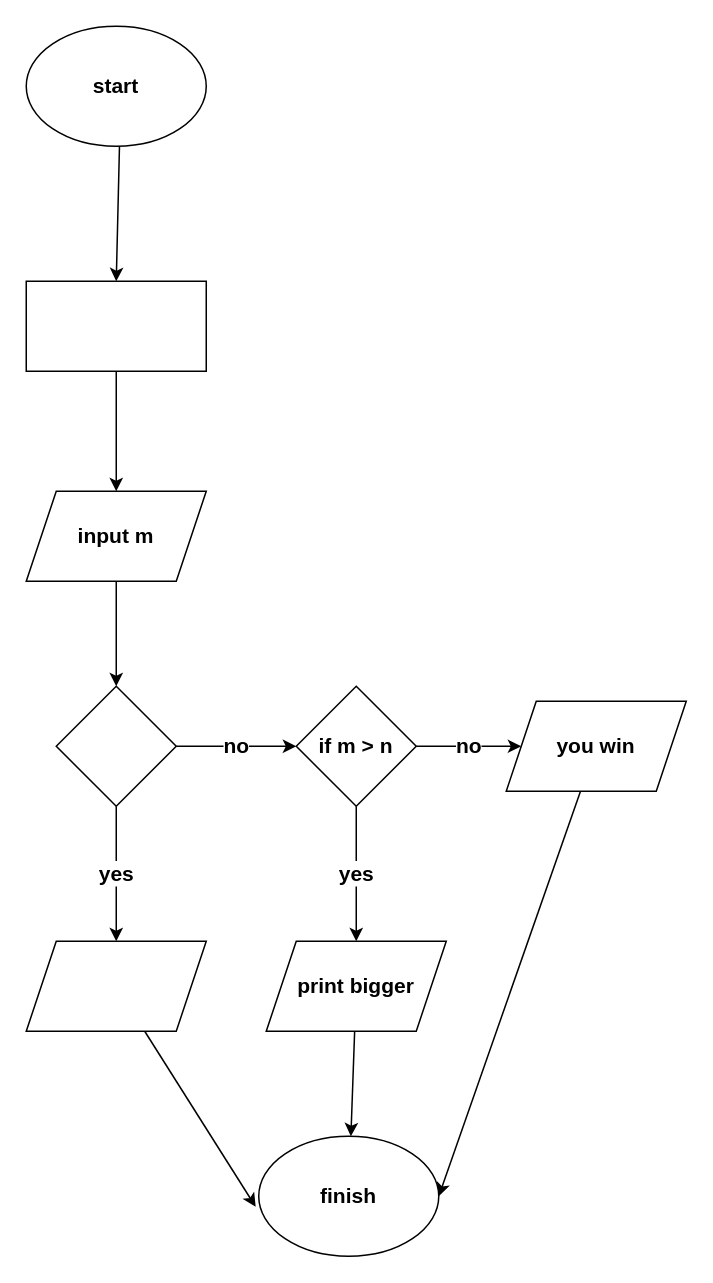
Some shapes in this 713 by 1283 pixel diagram are drawn without their labels. Each missing label, with the box of its shape:
if m < n: (55, 685, 176, 806)
n = 10: (25, 280, 206, 371)
print smaller: (25, 940, 206, 1031)
